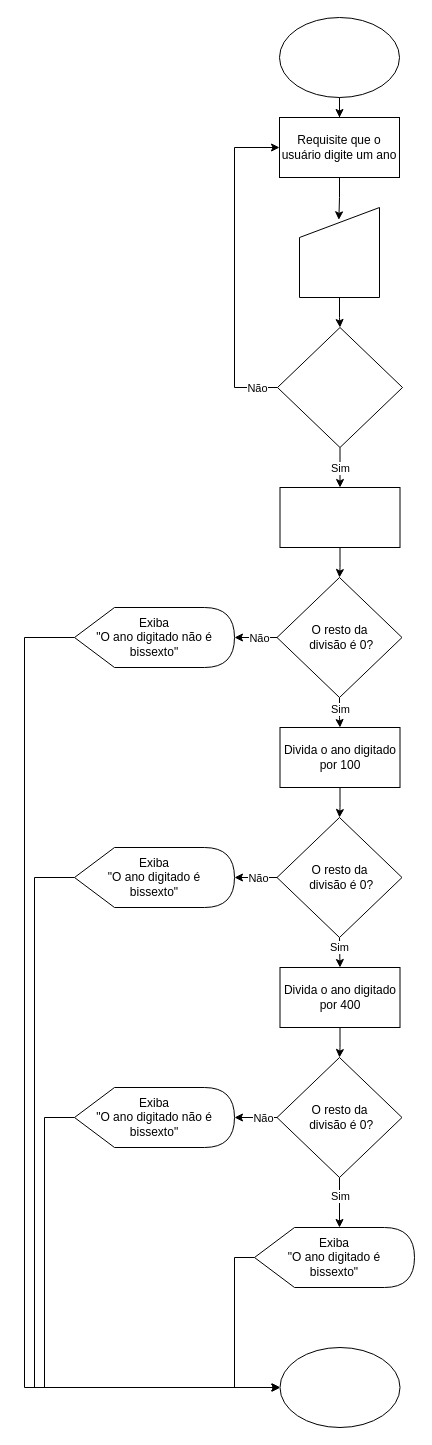
Some shapes in this 432 by 1445 pixel diagram are drawn without their labels. Here are the shapes that lost their labels. From the top down, the centre of each, then its label:
At point 339,57: "Início".
At point 339,252: "Usuário digita um ano".
At point 339,387: "O valor digitado é um número?".
At point 339,517: "Divida o valor por 4".
At point 339,1387: "Fim".
